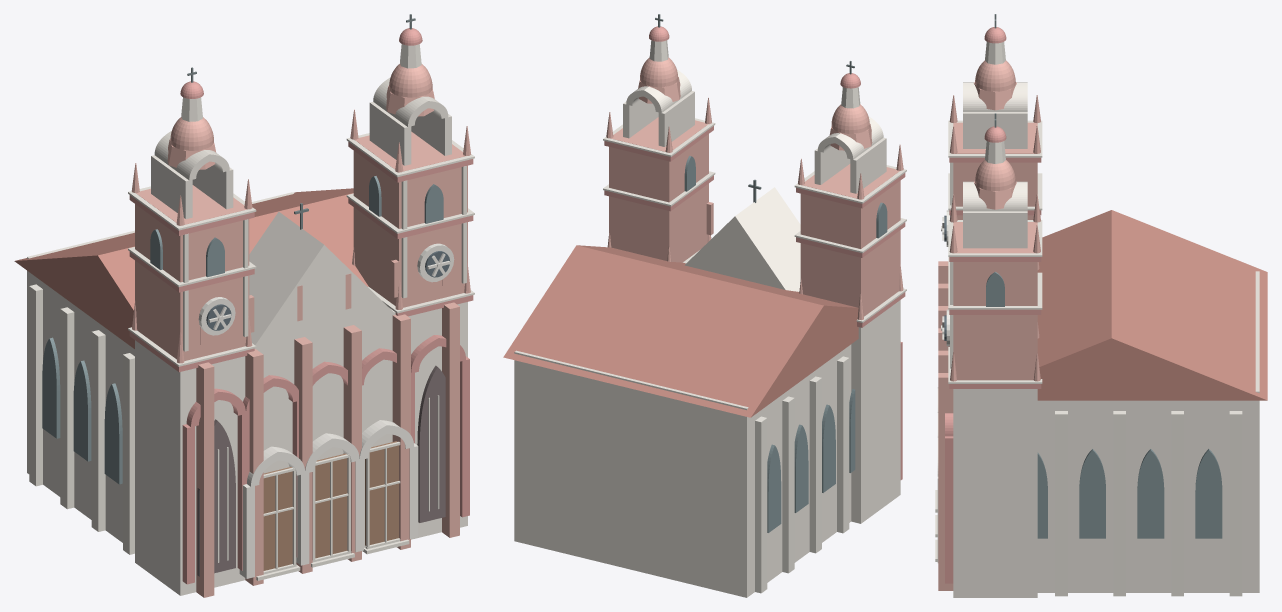
File: iglesia-san-nicolas.glb
3 renders of one model, left to right at view 1: azimuth 30°, elevation 25°; view 2: azimuth 150°, elevation 25°; view 3: azimuth 270°, elevation 25°, orthographic. The views are drawn at different scales.
Visible parts, largest first — view 1: iglesia-san-nicolas · Contrafuertes frontales, iglesia-san-nicolas · Torre izquierda, iglesia-san-nicolas · Cubierta de la nave, iglesia-san-nicolas · Hastial central apuntado, iglesia-san-nicolas · Torre izquierda · cuerpo alto, iglesia-san-nicolas · Torre derecha · cuerpo alto, iglesia-san-nicolas · Frente central, iglesia-san-nicolas · Cinco paños apuntados de fachada, iglesia-san-nicolas · Puertas de madera, iglesia-san-nicolas · Nave principal, iglesia-san-nicolas · Tres portales apuntados, iglesia-san-nicolas · Campanario abierto derecho (+32 smaller); view 2: iglesia-san-nicolas · Nave principal, iglesia-san-nicolas · Cubierta de la nave, iglesia-san-nicolas · Torre izquierda · cuerpo alto, iglesia-san-nicolas · Torre derecha · cuerpo alto, iglesia-san-nicolas · Torre izquierda, iglesia-san-nicolas · Hastial central apuntado, iglesia-san-nicolas · Campanario abierto izquierdo, iglesia-san-nicolas · Campanario abierto derecho, iglesia-san-nicolas · Contrafuerte lateral (2), iglesia-san-nicolas · Contrafuerte lateral (4), iglesia-san-nicolas · Contrafuerte lateral, iglesia-san-nicolas · Contrafuerte lateral (3) (+14 smaller); view 3: iglesia-san-nicolas · Cubierta de la nave, iglesia-san-nicolas · Nave principal, iglesia-san-nicolas · Torre derecha, iglesia-san-nicolas · Torre derecha · cuerpo alto, iglesia-san-nicolas · Campanario abierto derecho, iglesia-san-nicolas · Campanario abierto izquierdo, iglesia-san-nicolas · Contrafuertes frontales, iglesia-san-nicolas · Contrafuerte lateral (5), iglesia-san-nicolas · Contrafuerte lateral (6), iglesia-san-nicolas · Contrafuerte lateral (7), iglesia-san-nicolas · Contrafuerte lateral (8), iglesia-san-nicolas · Torre izquierda · cuerpo alto (+17 smaller).
Part boxes in pixels (box(x1,y1,x2,y2)): iglesia-san-nicolas · Contrafuertes frontales: box(196, 302, 459, 597); iglesia-san-nicolas · Torre izquierda: box(135, 340, 245, 595); iglesia-san-nicolas · Cubierta de la nave: box(14, 188, 368, 348); iglesia-san-nicolas · Hastial central apuntado: box(249, 212, 395, 351); iglesia-san-nicolas · Torre izquierda · cuerpo alto: box(135, 185, 249, 360); iglesia-san-nicolas · Torre derecha · cuerpo alto: box(353, 131, 467, 307); iglesia-san-nicolas · Frente central: box(255, 308, 395, 551); iglesia-san-nicolas · Cinco paños apuntados de fachada: box(182, 335, 469, 584); iglesia-san-nicolas · Puertas de madera: box(263, 441, 398, 570); iglesia-san-nicolas · Nave principal: box(27, 192, 293, 542); iglesia-san-nicolas · Tres portales apuntados: box(239, 420, 418, 578); iglesia-san-nicolas · Campanario abierto derecho: box(369, 77, 451, 165); iglesia-san-nicolas · Nave principal: box(514, 344, 851, 597); iglesia-san-nicolas · Cubierta de la nave: box(503, 245, 858, 417); iglesia-san-nicolas · Torre izquierda · cuerpo alto: box(800, 164, 900, 316); iglesia-san-nicolas · Torre derecha · cuerpo alto: box(609, 117, 708, 262); iglesia-san-nicolas · Torre izquierda: box(851, 300, 900, 523); iglesia-san-nicolas · Hastial central apuntado: box(685, 187, 800, 291); iglesia-san-nicolas · Campanario abierto izquierdo: box(814, 116, 886, 193); iglesia-san-nicolas · Campanario abierto derecho: box(623, 69, 694, 146); iglesia-san-nicolas · Contrafuerte lateral (2): box(782, 396, 794, 573); iglesia-san-nicolas · Contrafuerte lateral (4): box(837, 356, 849, 533); iglesia-san-nicolas · Contrafuerte lateral: box(755, 416, 767, 593); iglesia-san-nicolas · Contrafuerte lateral (3): box(809, 376, 821, 553); iglesia-san-nicolas · Cubierta de la nave: box(1037, 210, 1267, 400); iglesia-san-nicolas · Nave principal: box(1037, 271, 1259, 592); iglesia-san-nicolas · Torre derecha: box(953, 389, 1037, 597); iglesia-san-nicolas · Torre derecha · cuerpo alto: box(953, 222, 1037, 380); iglesia-san-nicolas · Campanario abierto derecho: box(963, 181, 1027, 248); iglesia-san-nicolas · Campanario abierto izquierdo: box(963, 82, 1027, 148); iglesia-san-nicolas · Contrafuertes frontales: box(938, 261, 953, 590); iglesia-san-nicolas · Contrafuerte lateral (5): box(1229, 411, 1242, 596); iglesia-san-nicolas · Contrafuerte lateral (6): box(1171, 411, 1183, 596); iglesia-san-nicolas · Contrafuerte lateral (7): box(1113, 411, 1125, 596); iglesia-san-nicolas · Contrafuerte lateral (8): box(1055, 411, 1067, 596); iglesia-san-nicolas · Torre izquierda · cuerpo alto: box(953, 122, 1037, 219).
Bounding box in the file's own units: 12.06 × 19.57 × 12.57.
